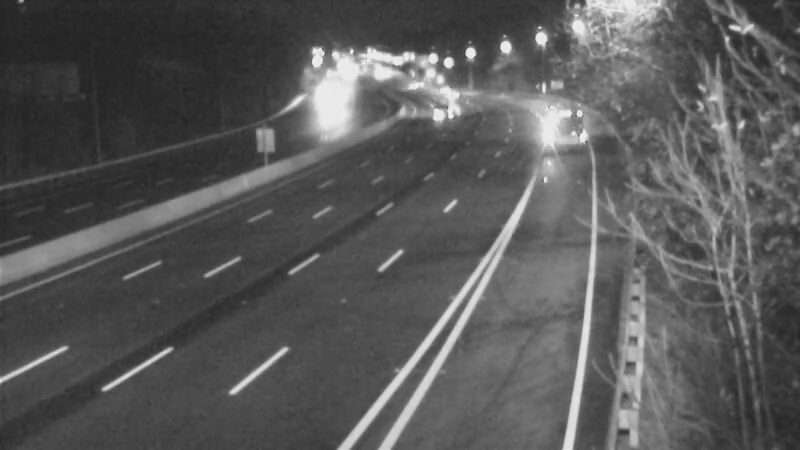vehicle: (420, 64, 470, 114), (431, 72, 481, 122), (412, 86, 462, 136), (529, 97, 579, 147)
